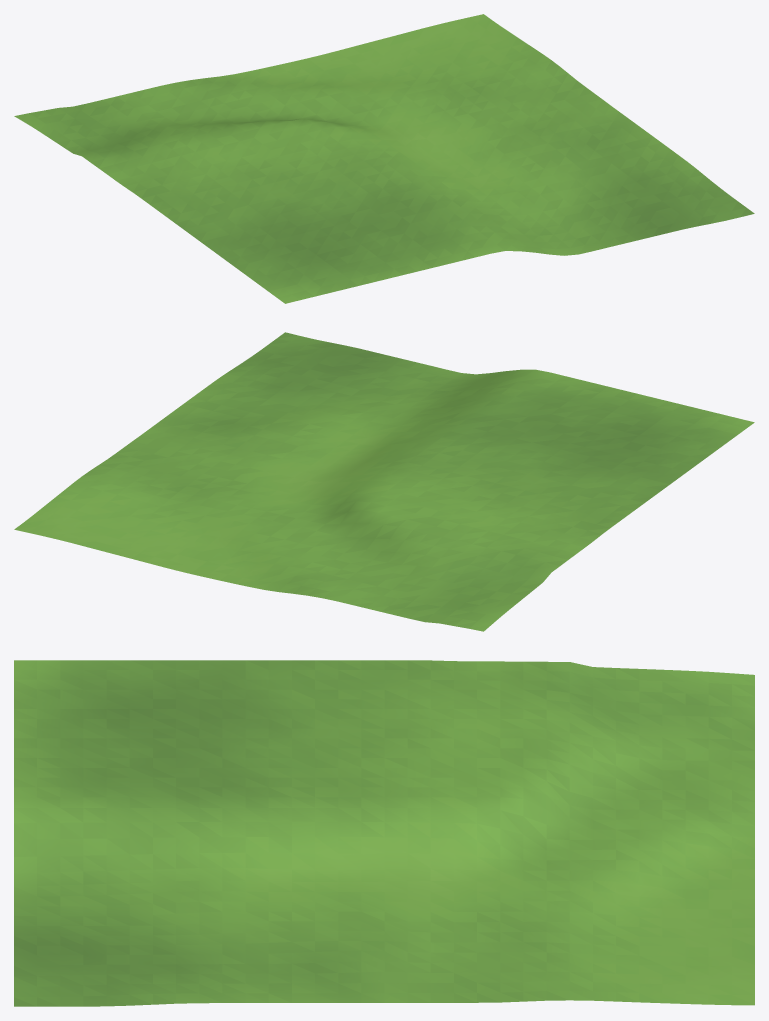
The model's file is terrain_r1_c2.glb.
3 views of the same model, one above another, from view 1: azimuth 30°, elevation 25°; view 2: azimuth 150°, elevation 25°; view 3: azimuth 270°, elevation 25° (orthographic). The views are drawn at different scales.
Parts seen in each view (by area): view 1: terrain_r1_c2; view 2: terrain_r1_c2; view 3: terrain_r1_c2.
Part boxes in pixels (x1,y1,x2,y2): terrain_r1_c2: (14,14,754,303); terrain_r1_c2: (14,332,754,631); terrain_r1_c2: (14,660,754,1006).
Bounding box in the file's own units: 128 × 6.46 × 128.
1 material, 1 textured.
